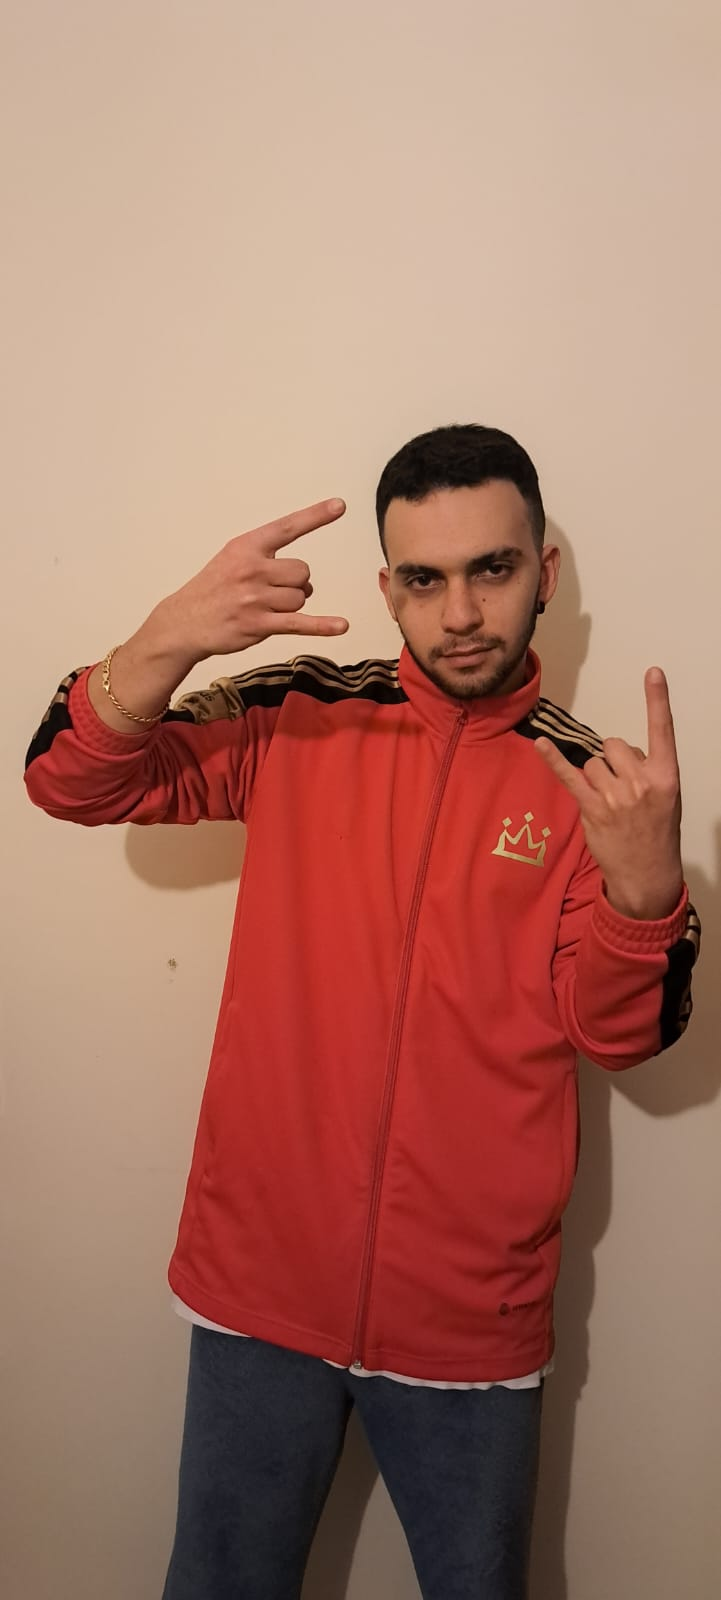rock: (201, 495, 703, 870)
